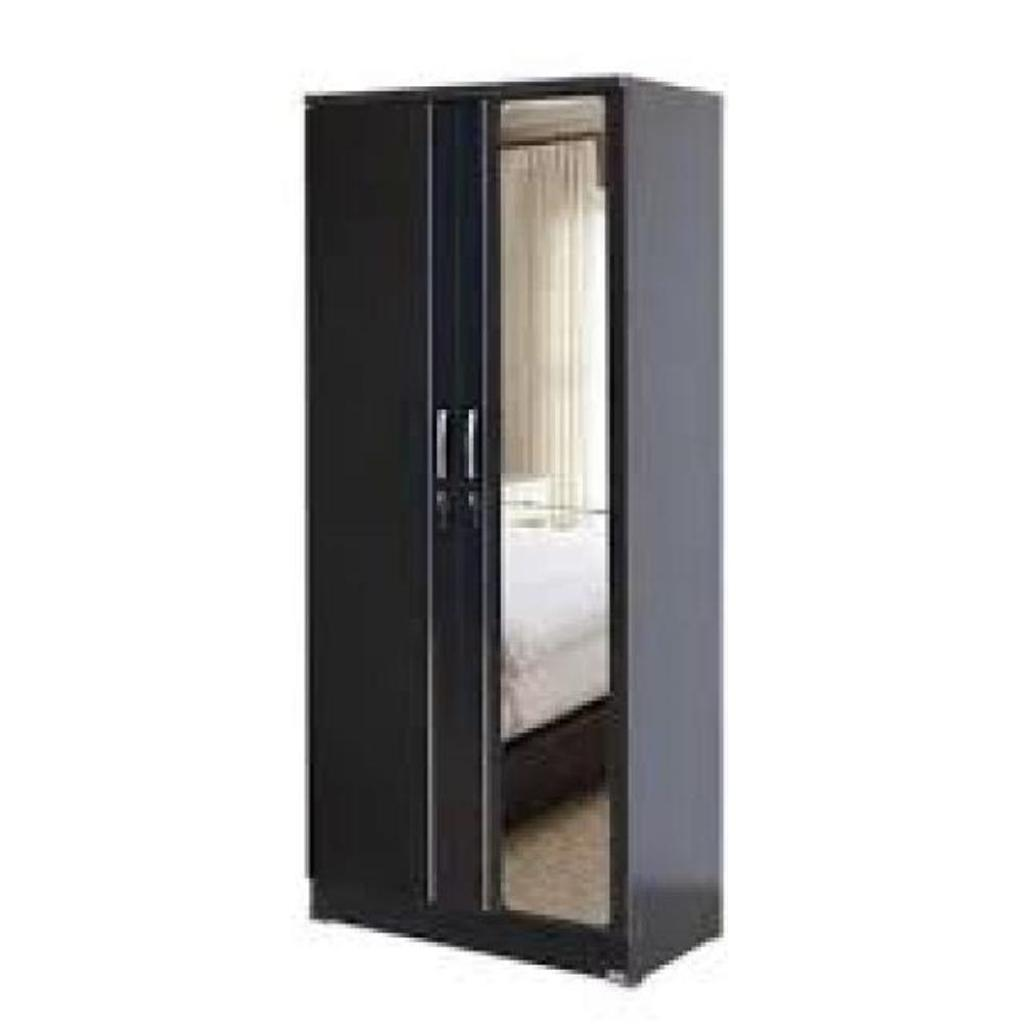cabinet: (302, 68, 727, 992)
